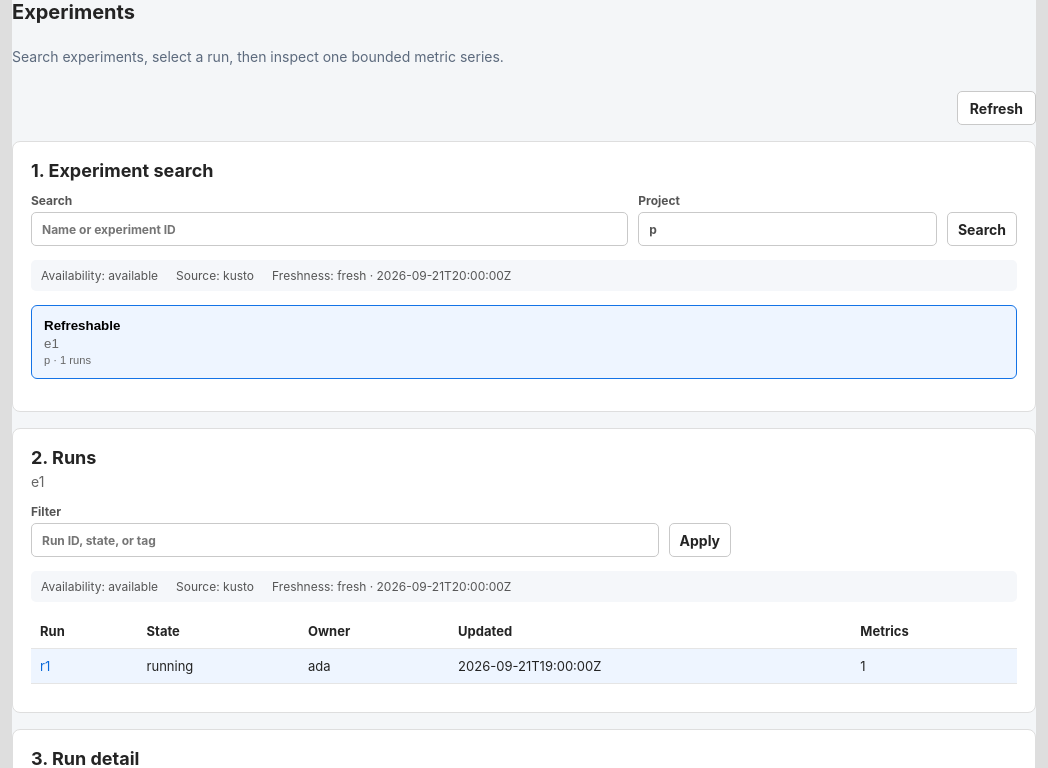
Test: typed experiment dashboard › refreshes successful scoped reads and displays newly returned series points
Click the button with aria-label "Refresh experiment data" at (996, 108), box left=957, top=91, right=1036, bottom=125
(page scrolled)
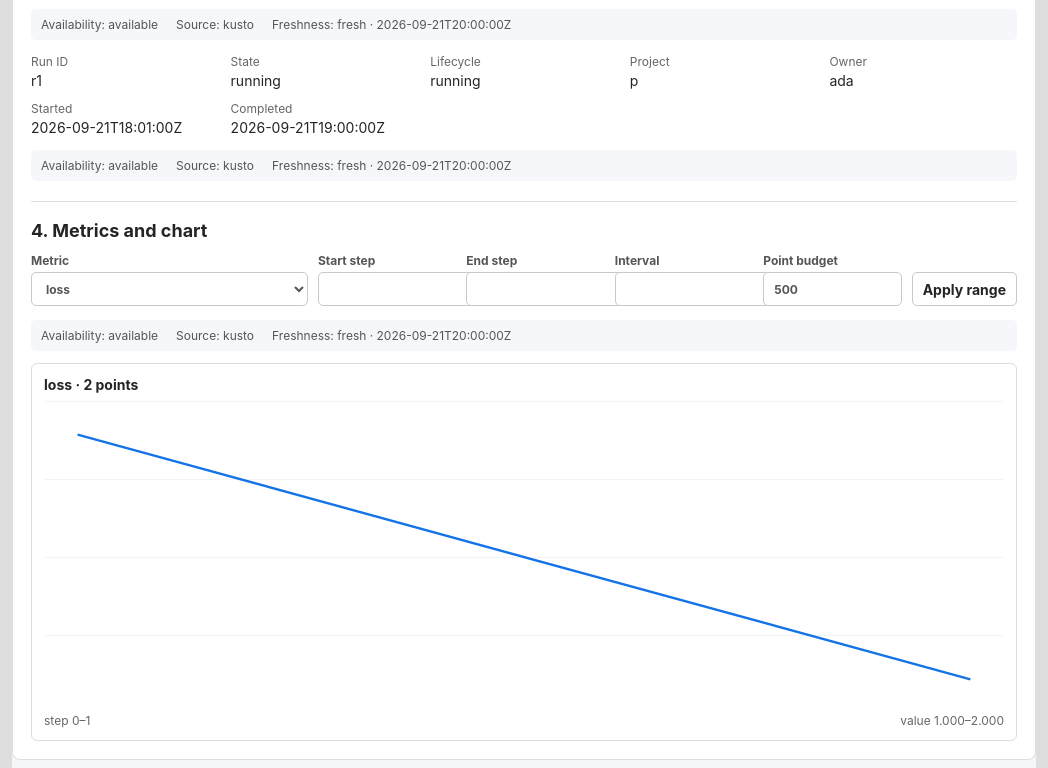
Expected: the text "loss · 2 points" is shown, left=44, top=376, right=138, bottom=393
